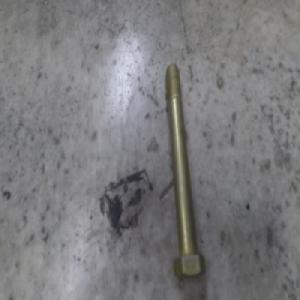Bolt: (165, 58, 206, 276)
